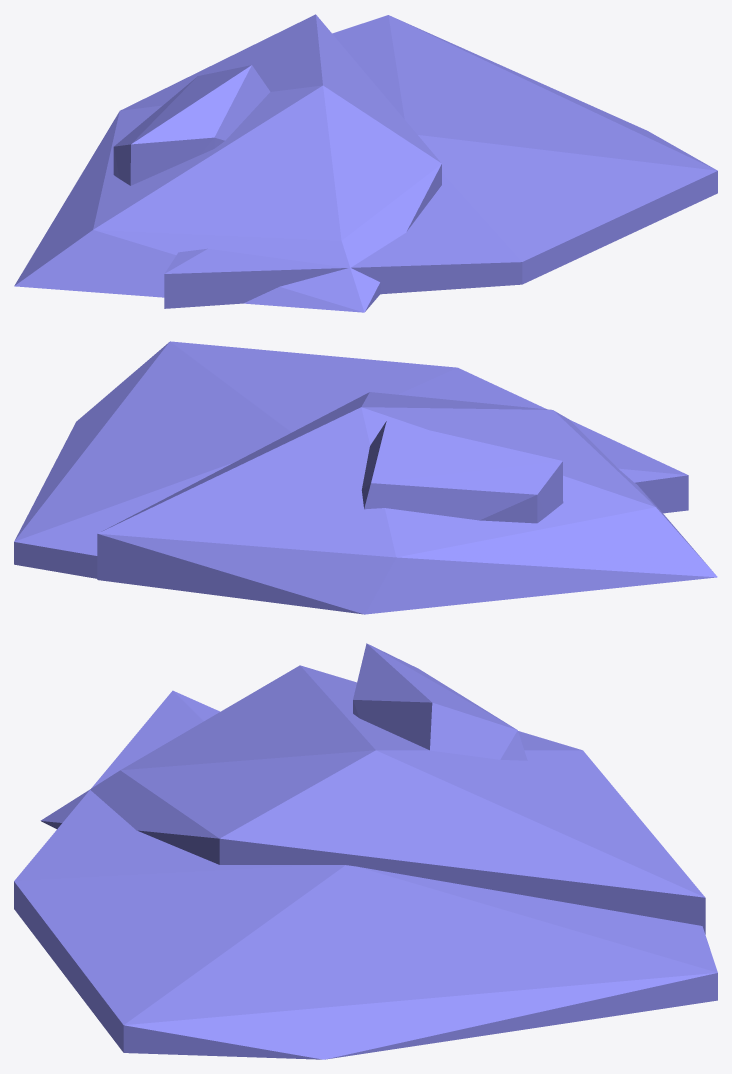
The model's file is Pile_04_Collider_01.FBX.
3 renders of one model, top to bottom at view 1: azimuth 30°, elevation 25°; view 2: azimuth 150°, elevation 25°; view 3: azimuth 270°, elevation 25°, orthographic. The views are drawn at different scales.
Parts seen in each view (by area): view 1: COLLIDER1, COLLIDER3, COLLIDER2; view 2: COLLIDER1, COLLIDER3, COLLIDER2; view 3: COLLIDER3, COLLIDER1, COLLIDER2.
Boxes of the visible parts, <box> form: COLLIDER1: <box>14,14,441,312</box>; COLLIDER3: <box>164,15,717,308</box>; COLLIDER2: <box>113,65,270,185</box>; COLLIDER1: <box>97,392,717,614</box>; COLLIDER3: <box>14,341,688,578</box>; COLLIDER2: <box>361,420,563,523</box>; COLLIDER3: <box>14,690,717,1059</box>; COLLIDER1: <box>40,665,705,934</box>; COLLIDER2: <box>353,643,527,760</box>.
Size of the model in its own units: 159 by 28.63 by 125.
